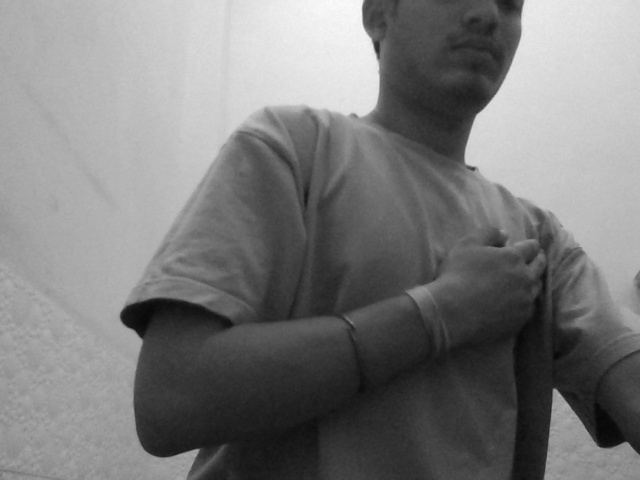Sorry: (368, 212, 592, 373)
